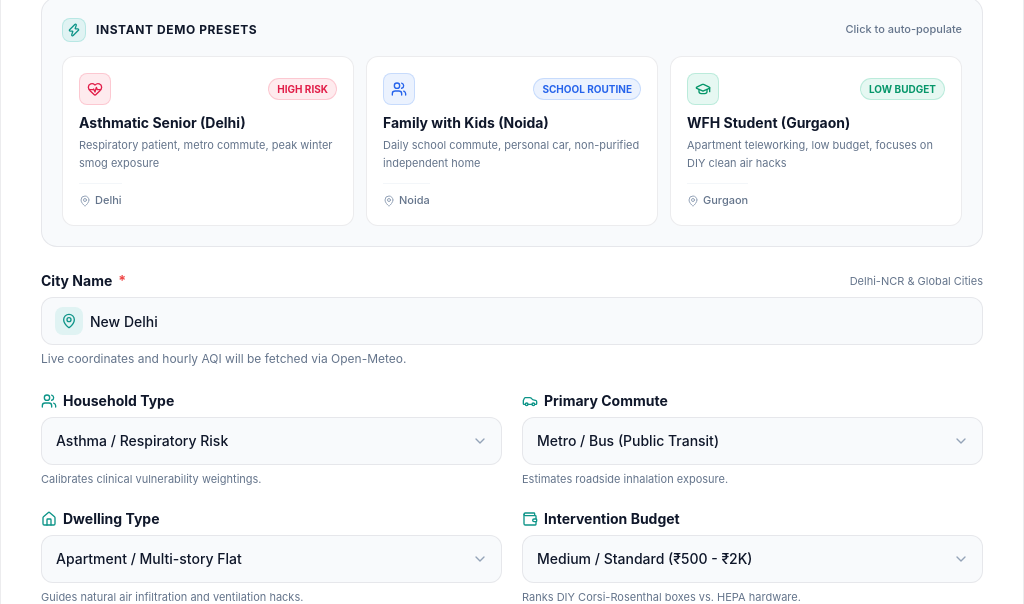
Test: ProfileForm Component › shows validation error when city is empty
Clear the field labelled "City Name *". click: [512, 321]
box: [41,297,983,345]
(page scrolled)
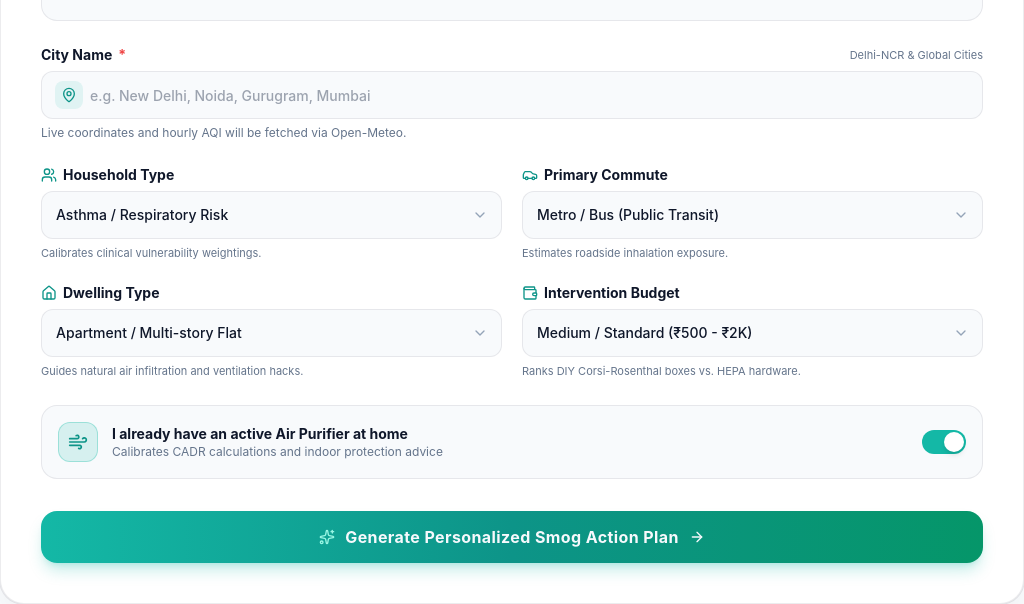
Click the button "Generate Personalized Smog Action Plan". click: [512, 536]
box: [41,510,983,562]
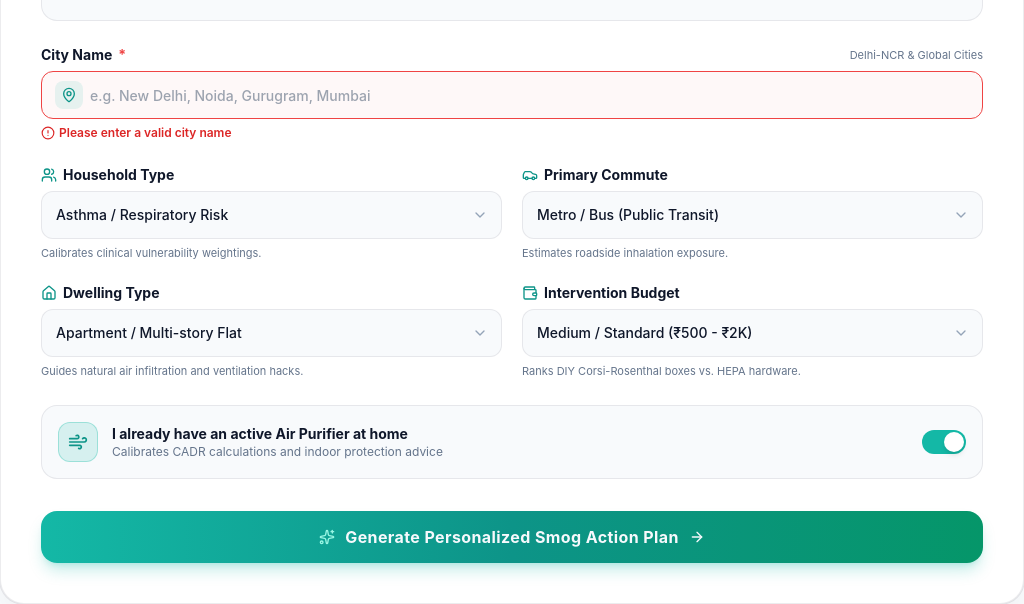
Expected: the text "Please enter a valid city name" is shown, [59,125,232,141]
